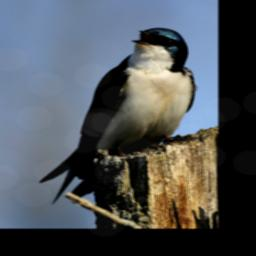Swallow: (38, 27, 195, 206)
